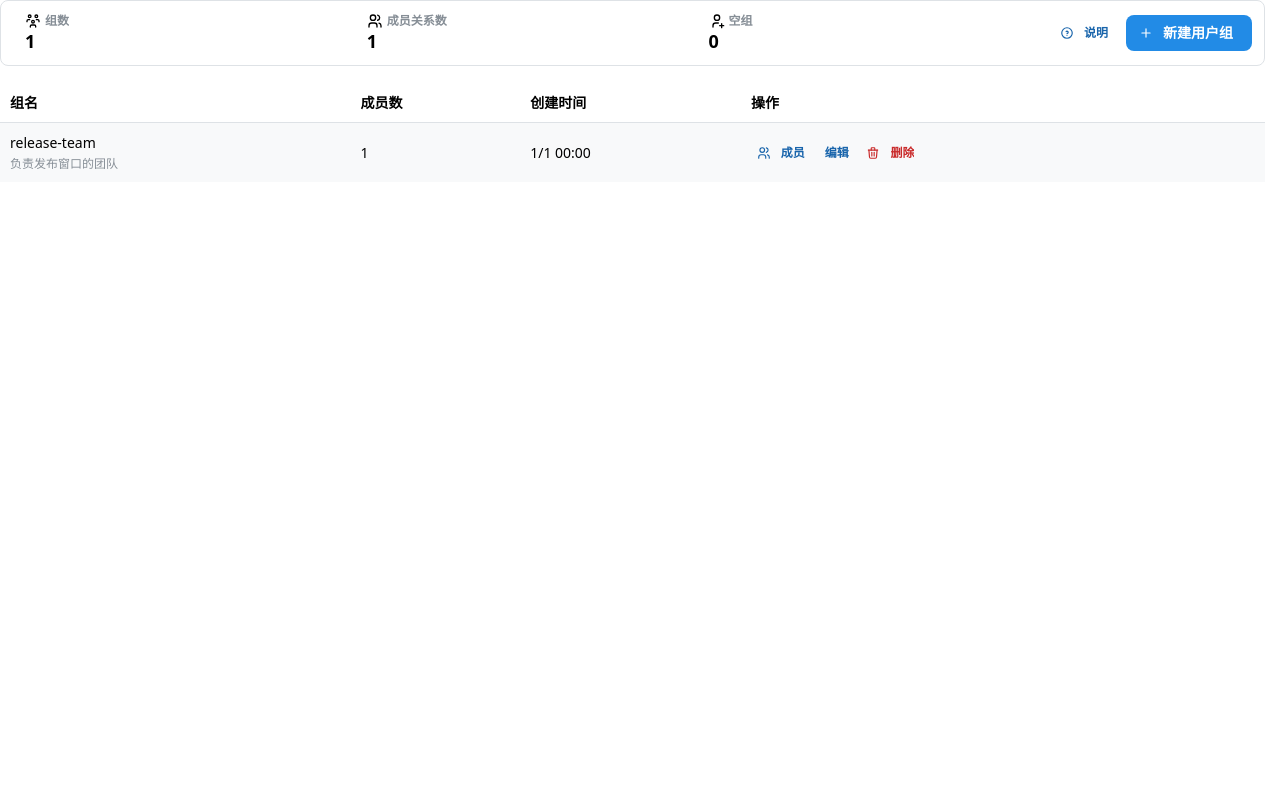
Test: 用户组管理 › 新建组后列表出现该组
Expected: the text "release-team" is shown, left=10, top=133, right=96, bottom=152
Click the button "新建用户组".
click(1189, 33)  # box left=1126, top=15, right=1252, bottom=51
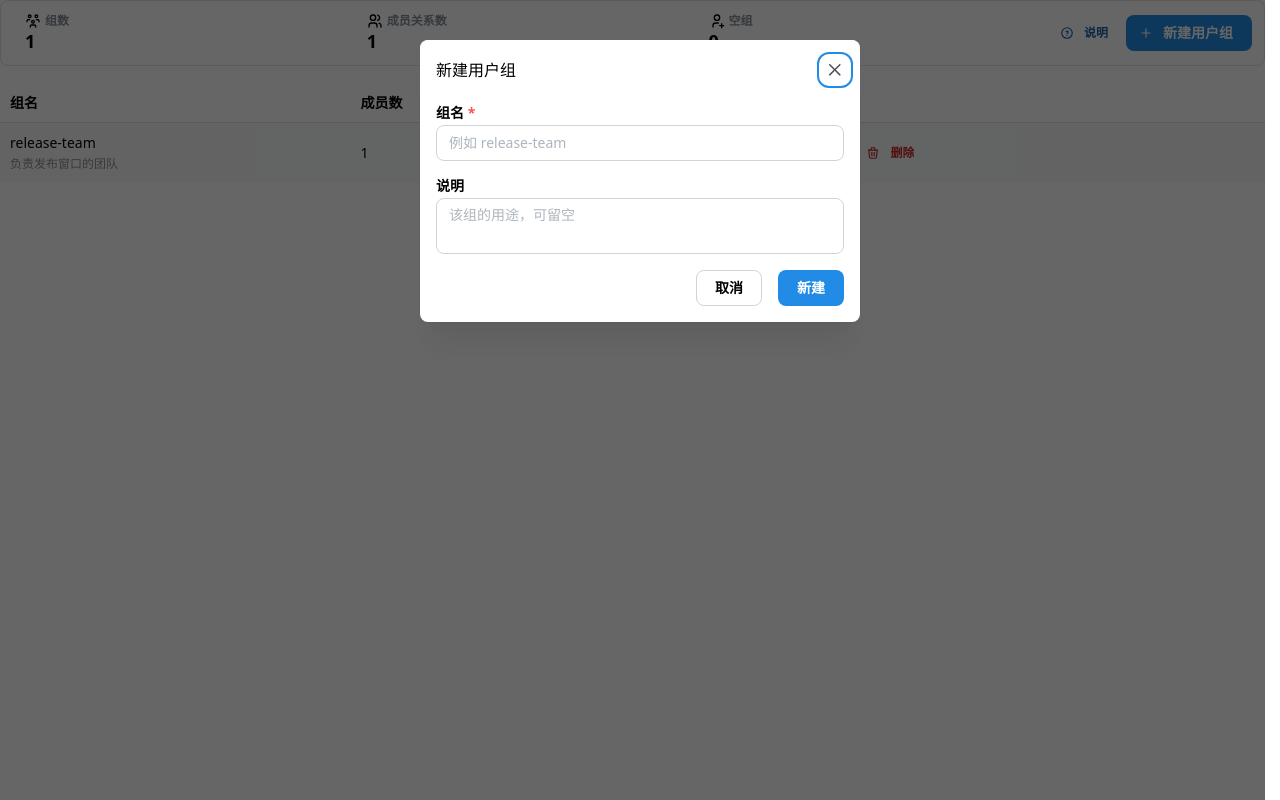
Type "ops-team" into the field labelled "组名 *".
click(640, 143); type("ops-team")  # box left=436, top=125, right=844, bottom=161
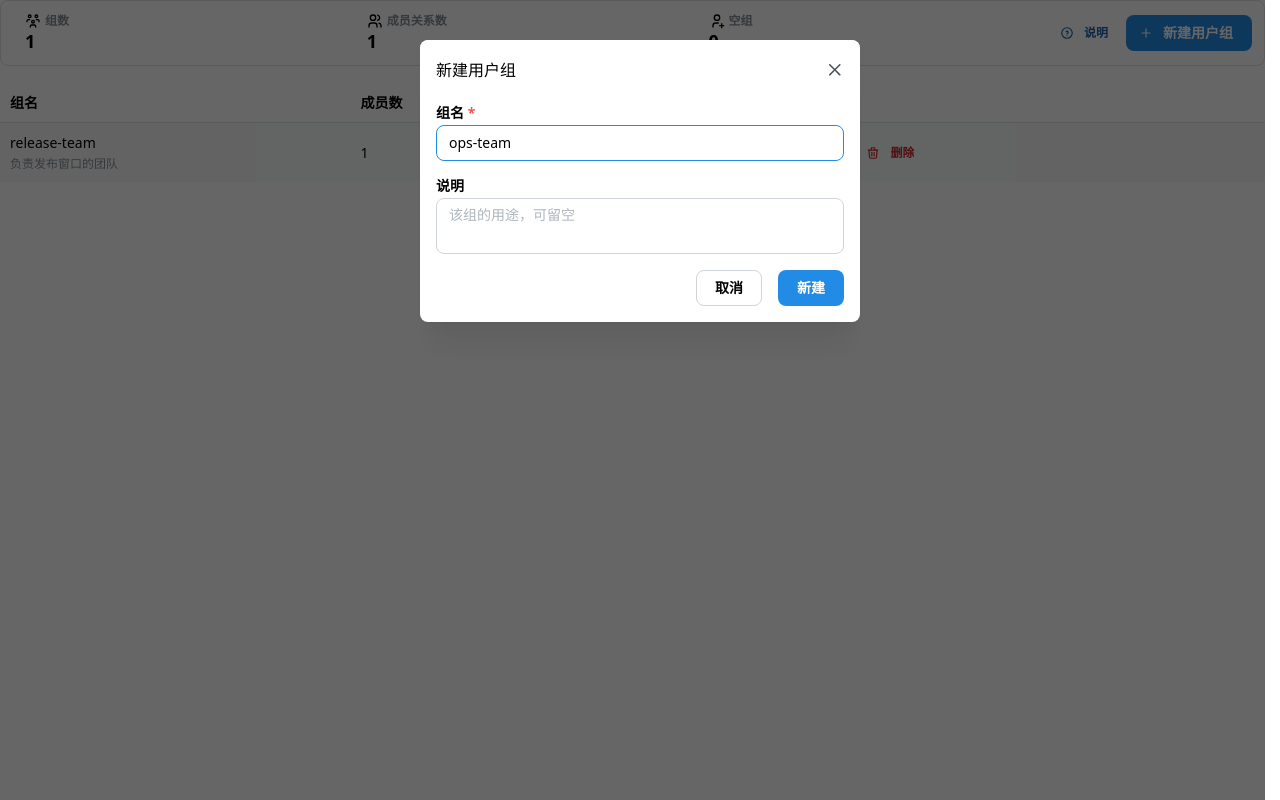
Type "运维值班组" into the text box labelled "说明".
click(640, 226); type("运维值班组")  # box left=436, top=198, right=844, bottom=254
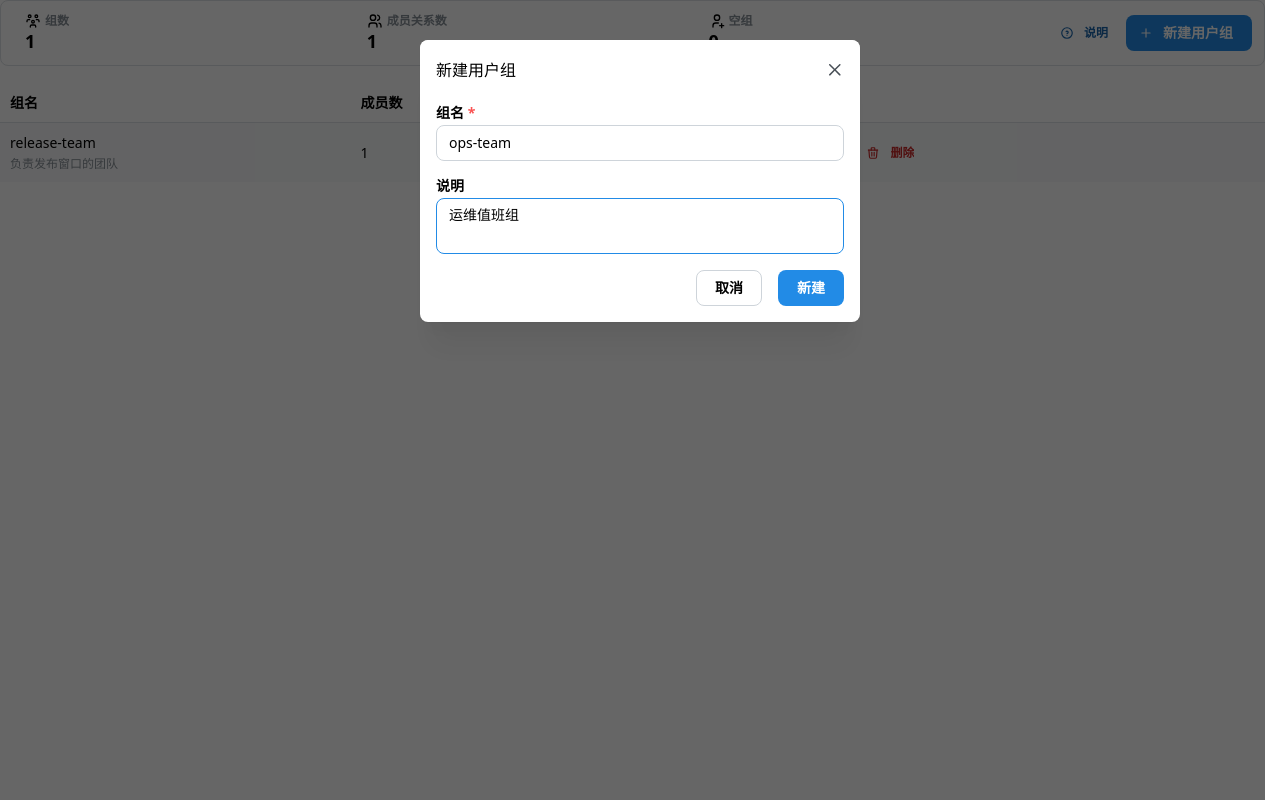
Click the button "新建".
click(811, 288)  # box left=778, top=270, right=844, bottom=306
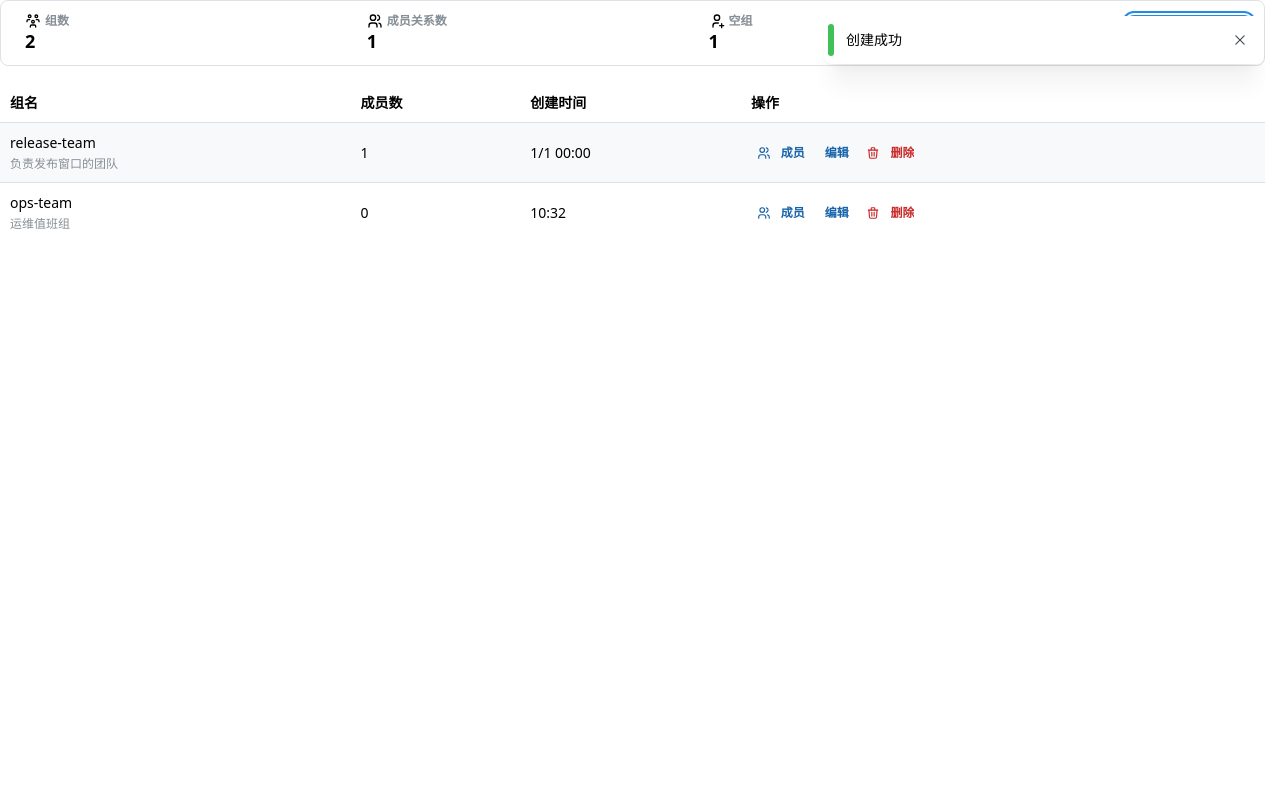
Now the text "ops-team" is shown, box left=10, top=193, right=72, bottom=212
